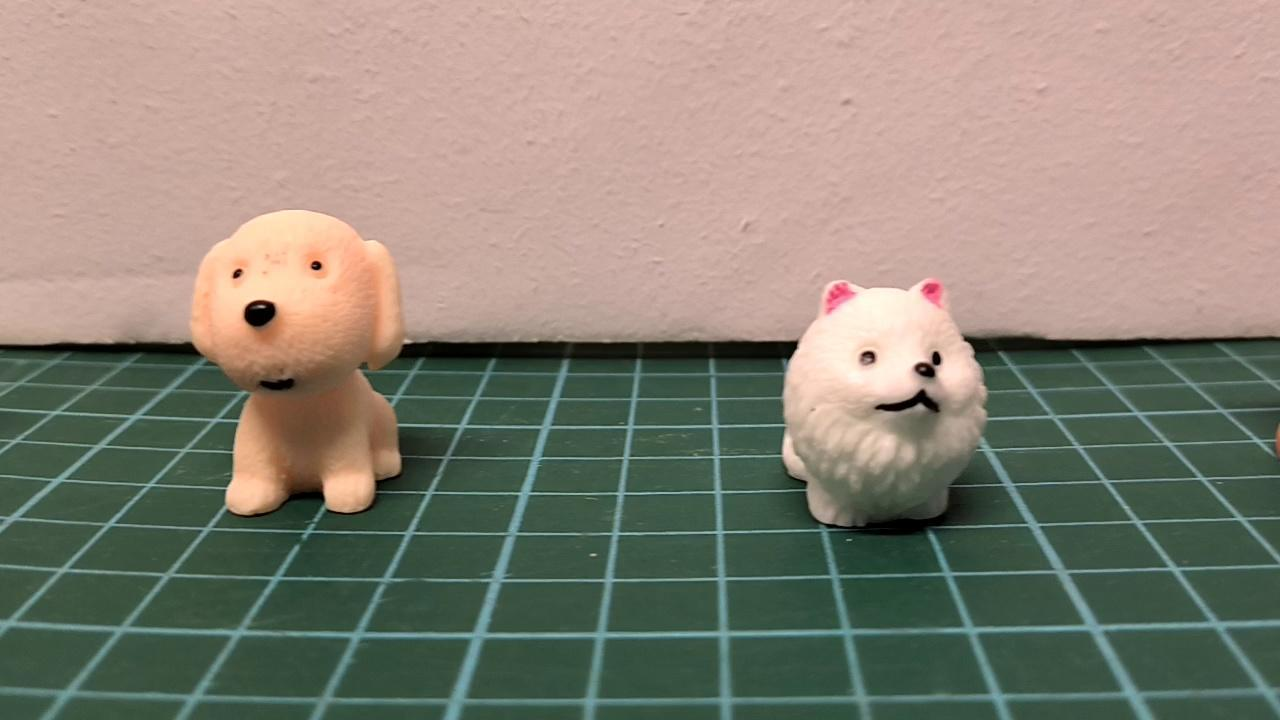pet: (189, 209, 409, 514), (776, 270, 993, 531)
